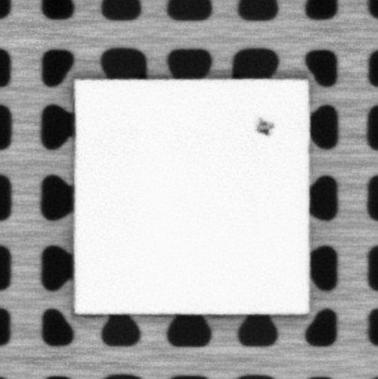DIE_INK: (253, 117, 275, 137)
